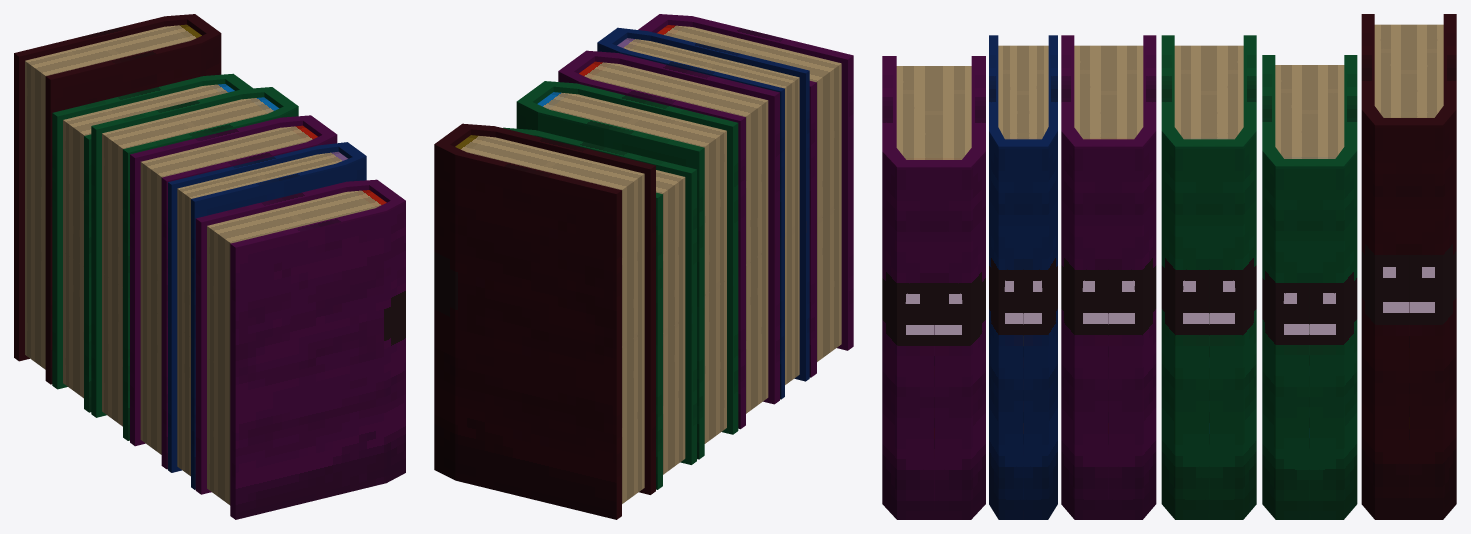
Rendered from E_Books.9.fbx.
The picture shows the model from 3 angles, left to right: view 1: azimuth 30°, elevation 25°; view 2: azimuth 150°, elevation 25°; view 3: azimuth 270°, elevation 25°; orthographic projection. The views are drawn at different scales.
Parts seen in each view (by area): view 1: Cube.001; view 2: Cube.001; view 3: Cube.001.
Boxes of the visible parts, x1,y1,x2,y2 form: Cube.001: (14,14,405,519); Cube.001: (434,14,853,519); Cube.001: (882,14,1456,519).
Size of the model in its own units: 37.81 by 62.59 by 82.52.
